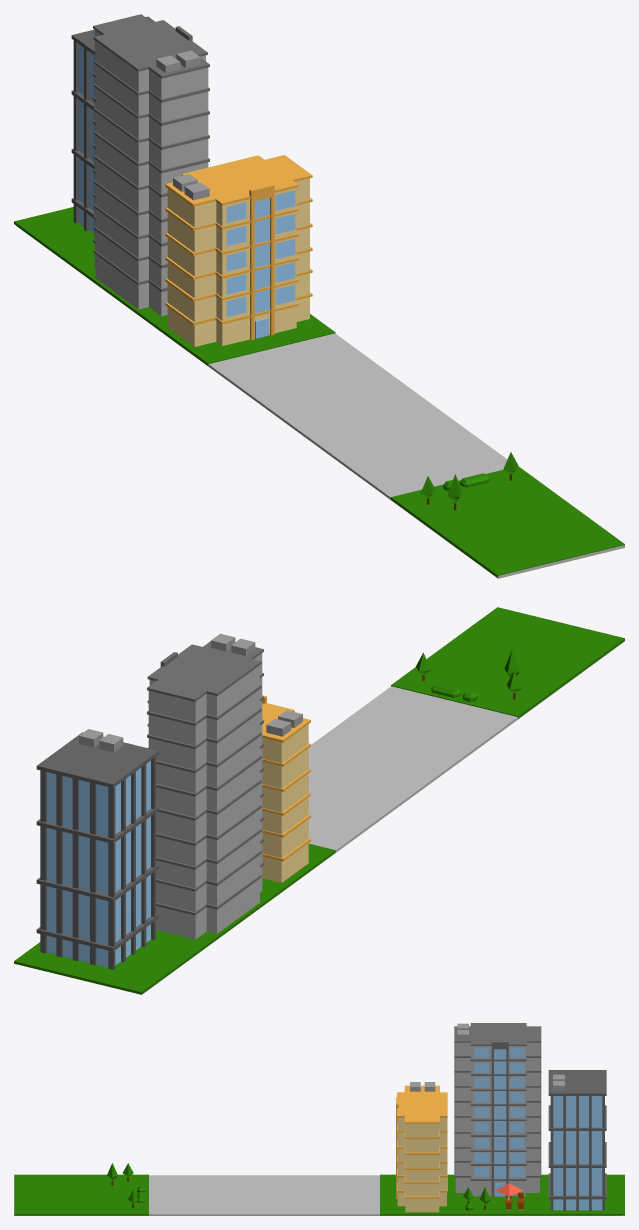
The model's file is Level 1 Chunk 5.fbx.
3 renders of one model, top to bottom at view 1: azimuth 30°, elevation 25°; view 2: azimuth 150°, elevation 25°; view 3: azimuth 270°, elevation 25°, orthographic. The views are drawn at different scales.
Visible parts, largest first — view 1: Building_C_Tallest8, Building_C4, pCube1801, pCube1800, pCube1802, Building_A4; view 2: Building_C_Tallest8, Building_A4, pCube1801, pCube1800, Building_C4, pCube1802; view 3: Building_C_Tallest8, pCube1801, Building_A4, Building_C4, pCube1800, pCube1802.
Part boxes in pixels (x1,y1,x2,y2): Building_C_Tallest8: (93, 14, 209, 316); Building_C4: (165, 155, 312, 346); pCube1801: (16, 226, 624, 578); pCube1800: (391, 466, 624, 577); pCube1802: (14, 207, 335, 365); Building_A4: (71, 16, 154, 237); Building_C_Tallest8: (147, 633, 263, 939); Building_A4: (36, 729, 158, 969); pCube1801: (143, 641, 624, 993); pCube1800: (391, 607, 624, 718); Building_C4: (262, 695, 310, 882); pCube1802: (14, 843, 335, 994); Building_C_Tallest8: (454, 1023, 541, 1196); pCube1801: (14, 1175, 622, 1215); Building_A4: (548, 1070, 606, 1210); Building_C4: (396, 1082, 447, 1212); pCube1800: (14, 1174, 148, 1215); pCube1802: (380, 1174, 624, 1215).
Bounding box in the file's own units: 6.13 × 11.58 × 40.27.
Materials: 1 (1 with a texture image).
